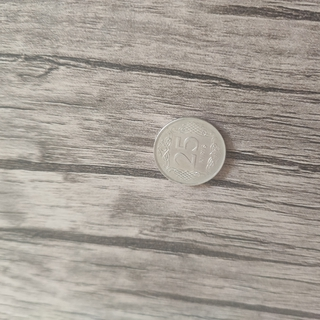25KURUS: (152, 116, 227, 187)
